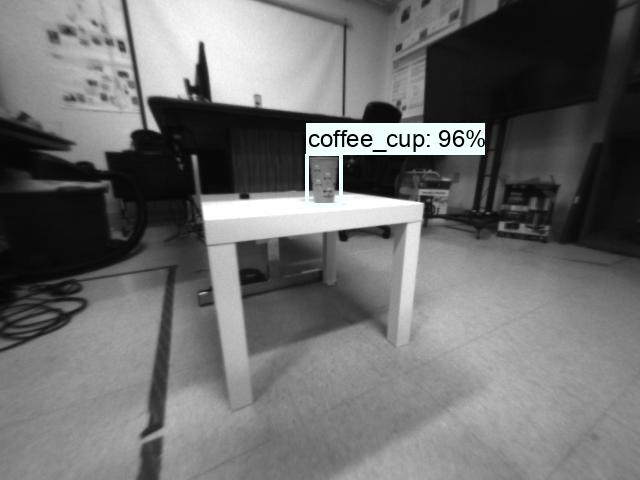coffee_cup: (306, 153, 341, 204)
